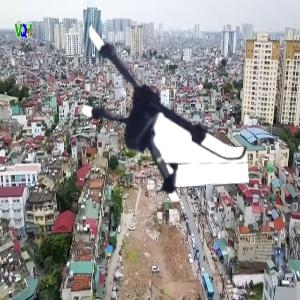drone: (53, 14, 245, 206)
